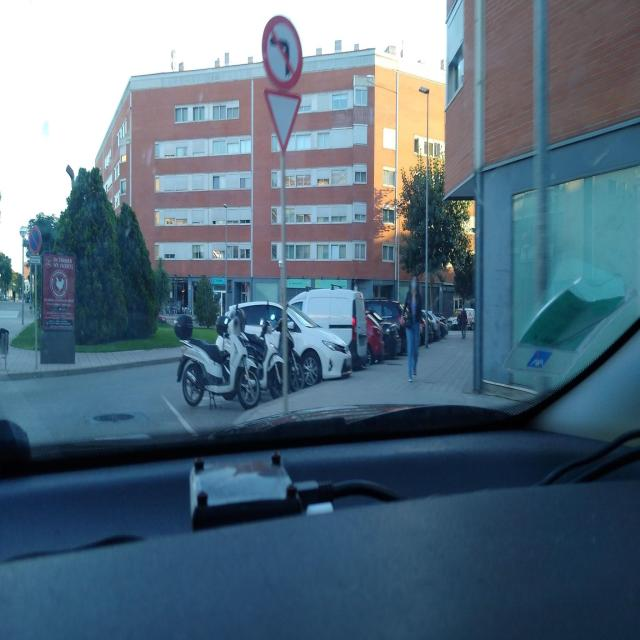forb_stopping: (29, 226, 41, 255)
